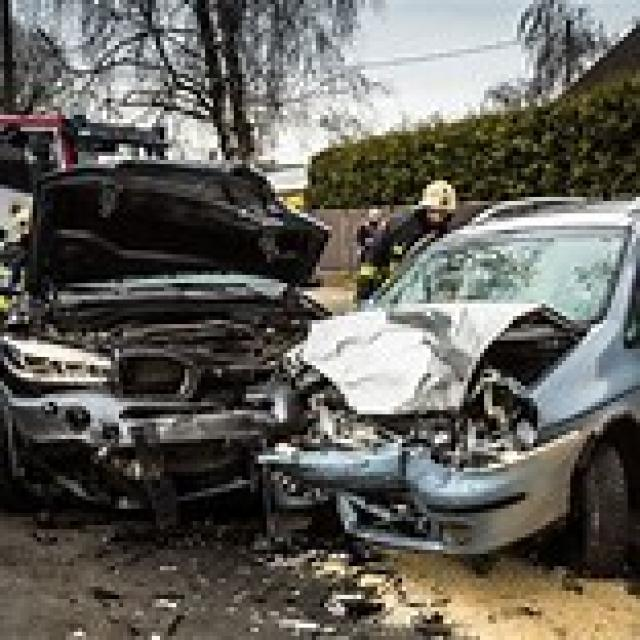Accident: (66, 111, 640, 606)
